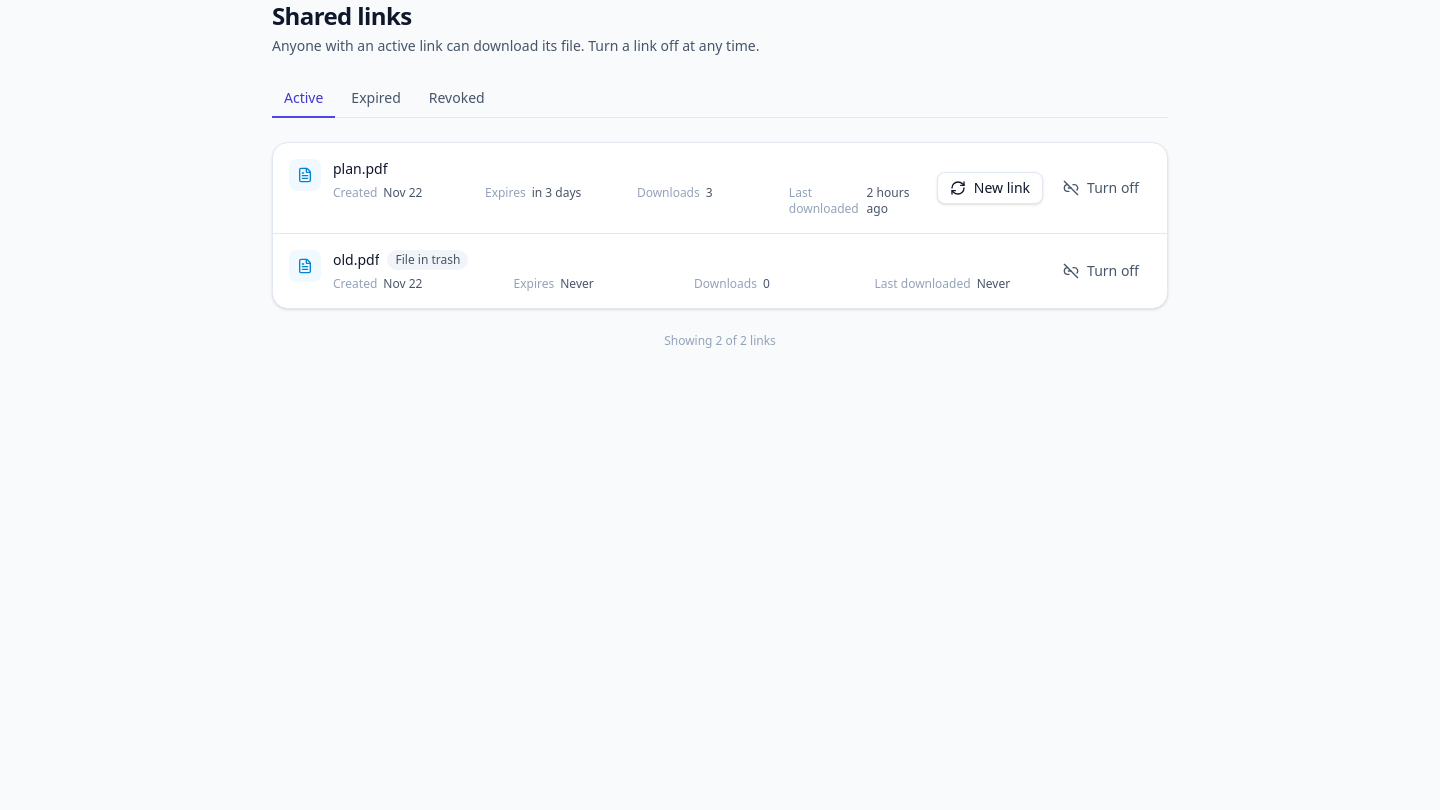
Test: Shared page › turning a link off asks first, then revokes and refreshes the list
Expected: the text "plan.pdf" is shown, [333,159,388,179]
Step 1. Click the button with aria-label "Stop sharing plan.pdf" → (1101, 188), box [1051,172,1151,204]
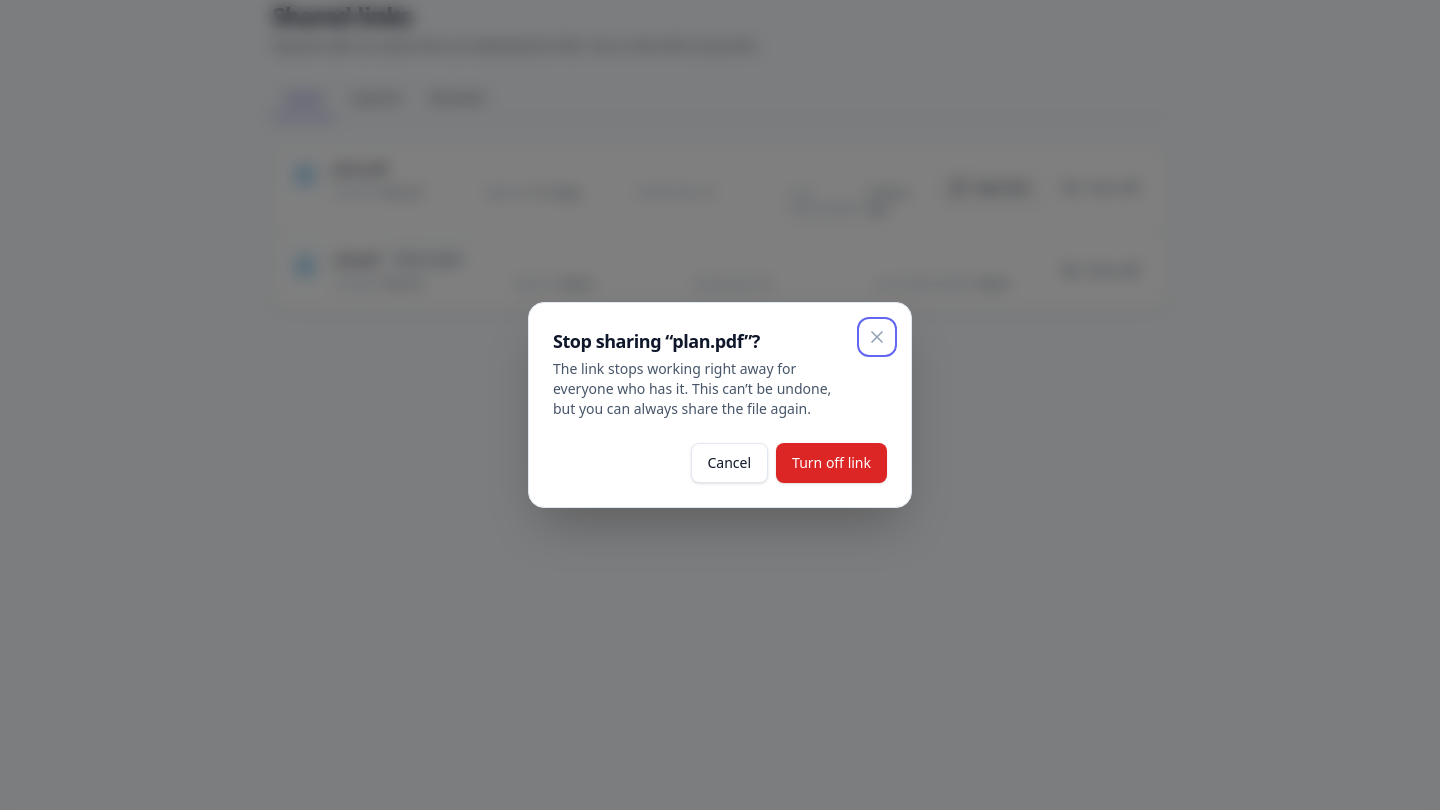
Step 2. Click the button "Turn off link" → (832, 463), box [776,443,887,483]
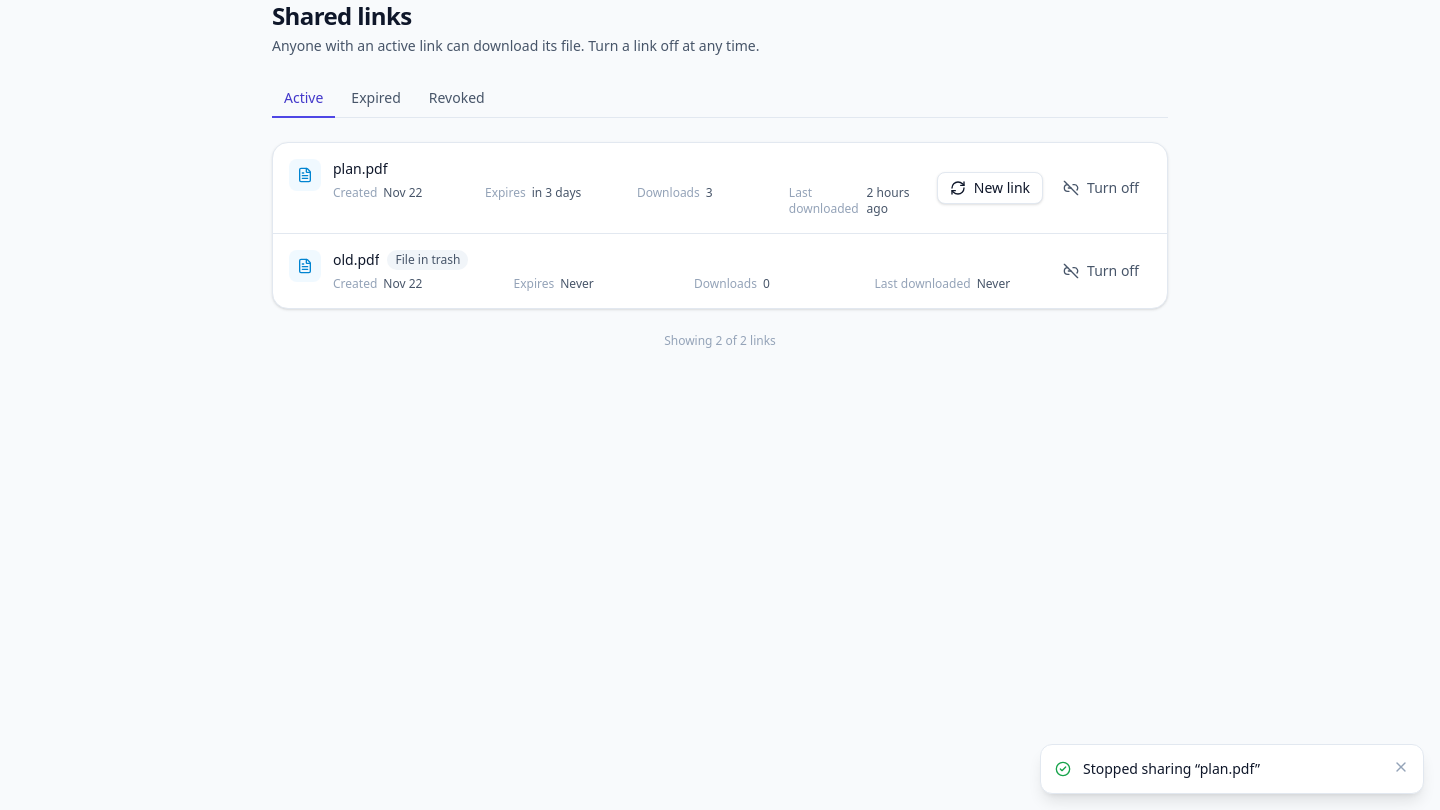
Result: the text "Stopped sharing “plan.pdf”" is shown at [1083,759,1260,778]
